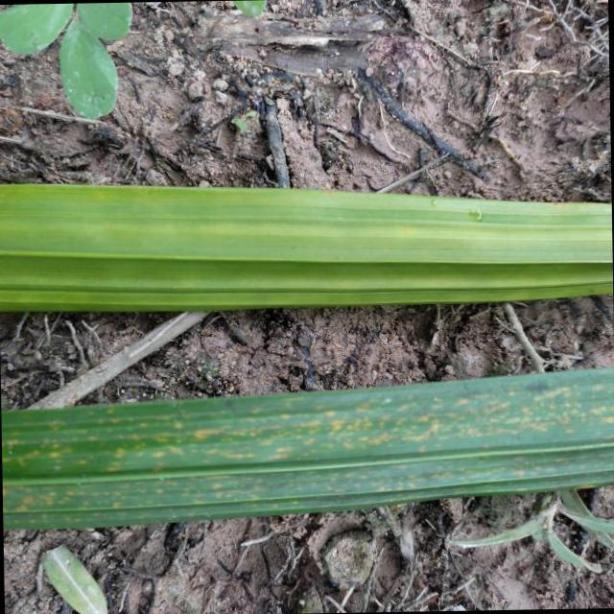nitrogen: (0, 174, 614, 312)
